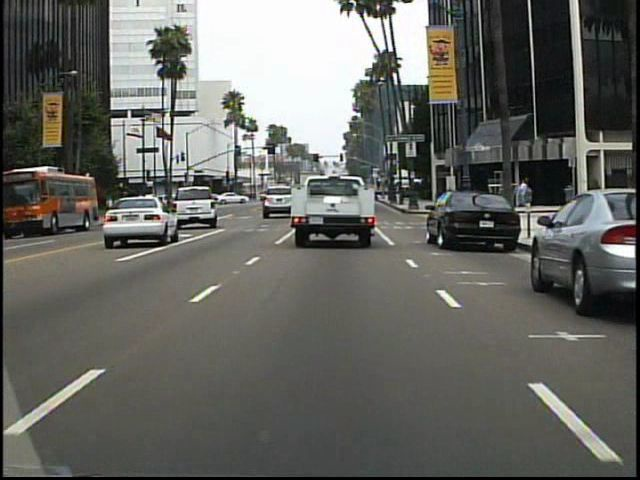person: (518, 178, 530, 194)
